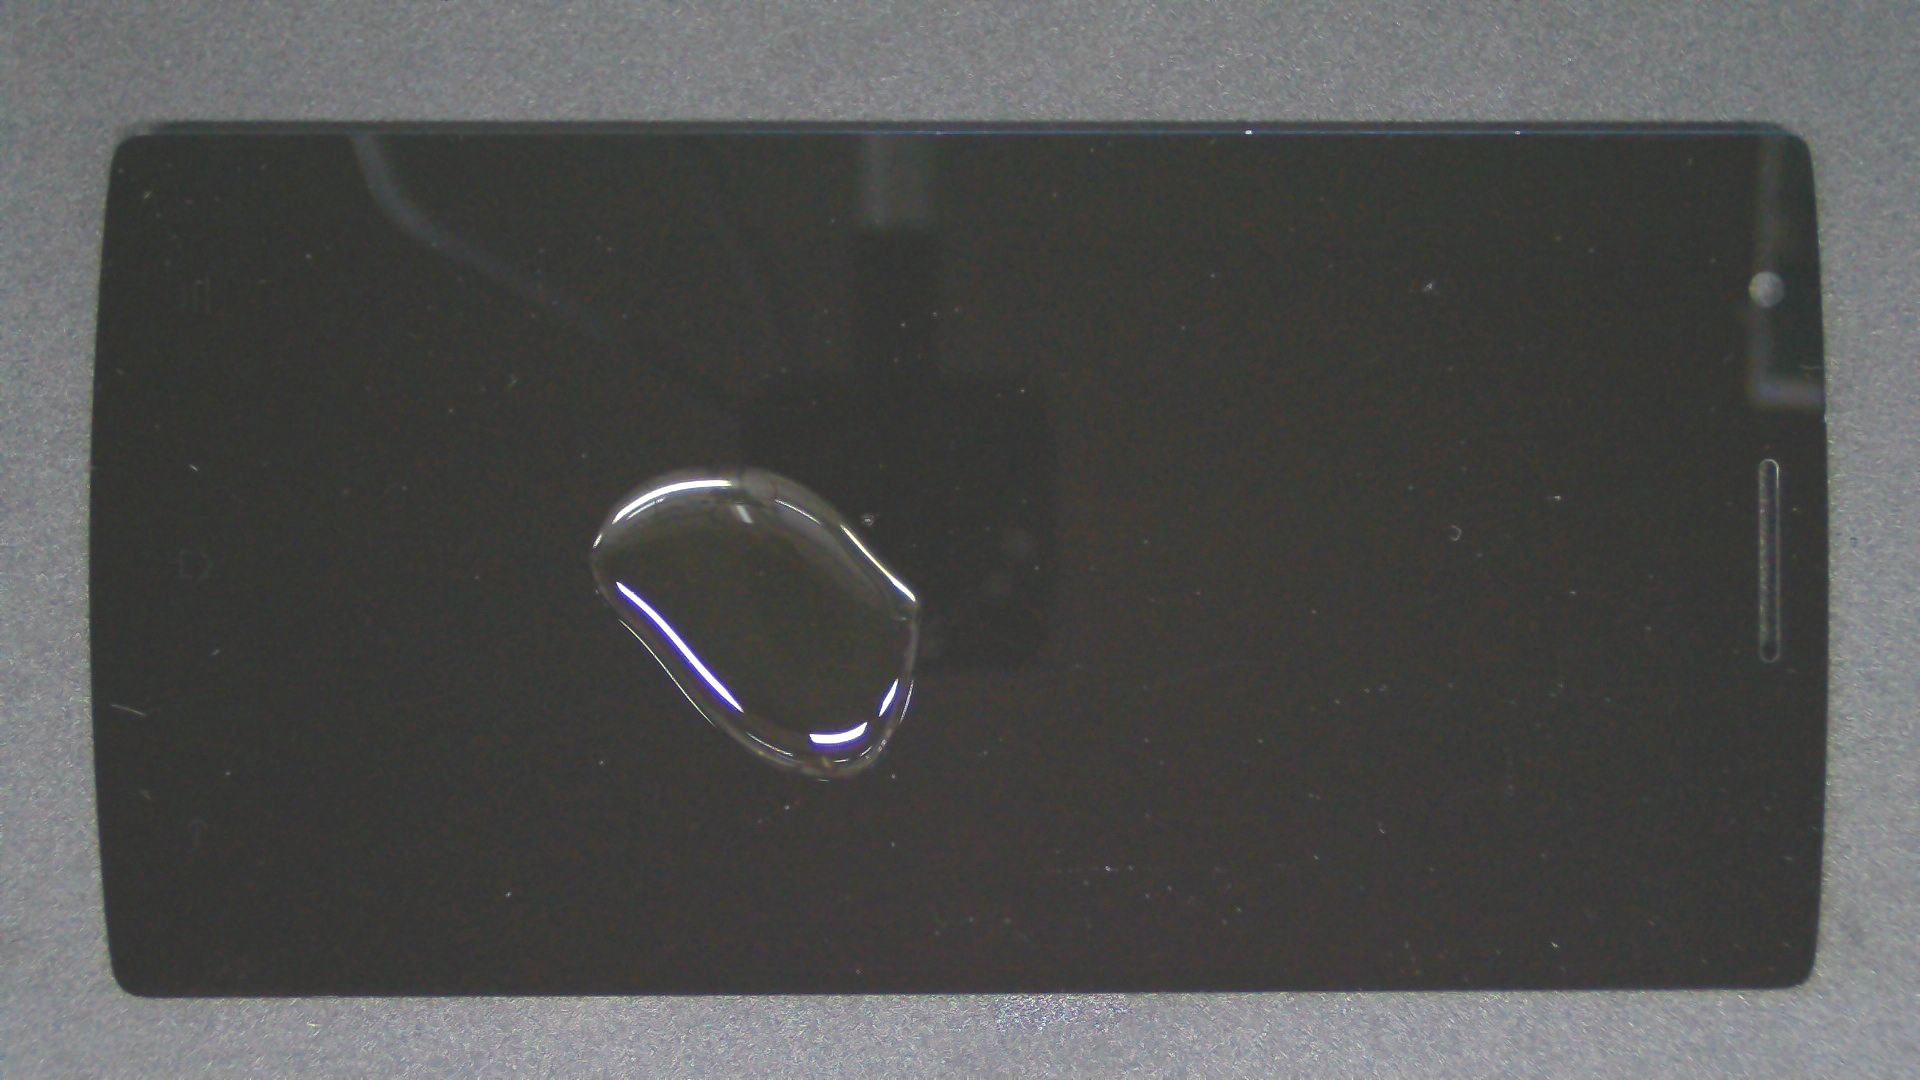oil: (367, 232, 1096, 696)
